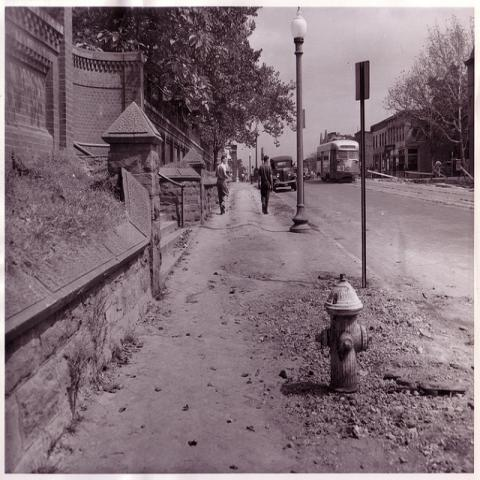bus: (316, 140, 360, 183)
car: (269, 156, 298, 192)
truck: (271, 156, 297, 190)
